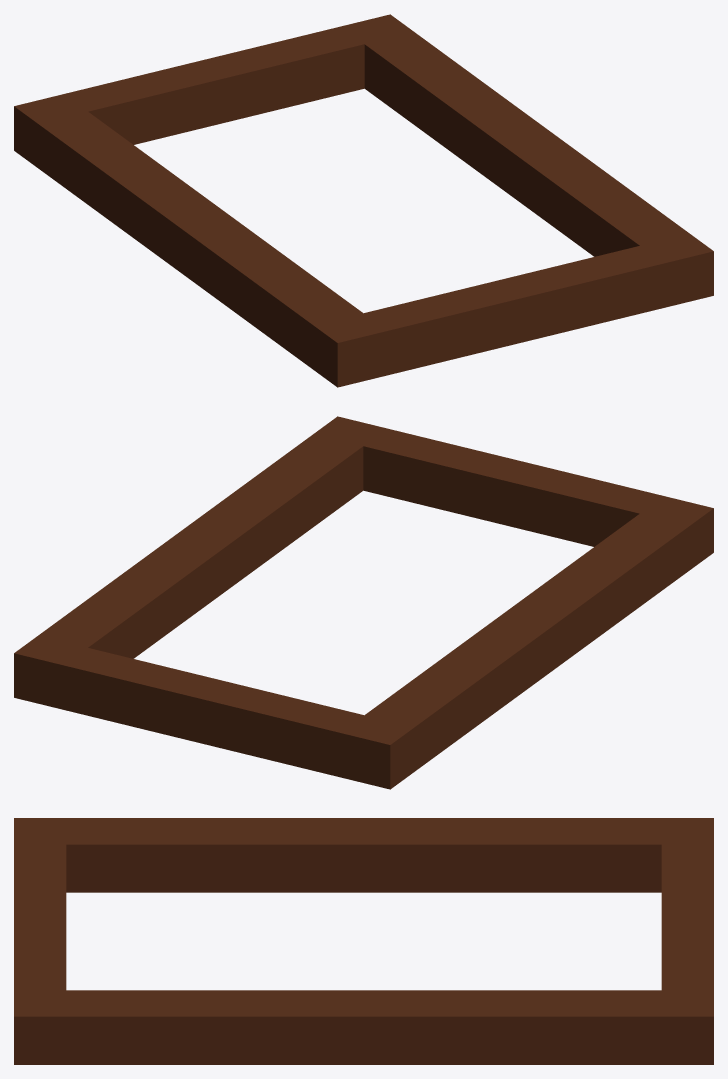
The model's file is keep-wd02_16.obj.
3 renders of one model, top to bottom at view 1: azimuth 30°, elevation 25°; view 2: azimuth 150°, elevation 25°; view 3: azimuth 270°, elevation 25°, orthographic. The views are drawn at different scales.
Bounding box in the file's own units: 0.2656 × 0.03 × 0.3956.
Materials: 1 (1 with a texture image).
